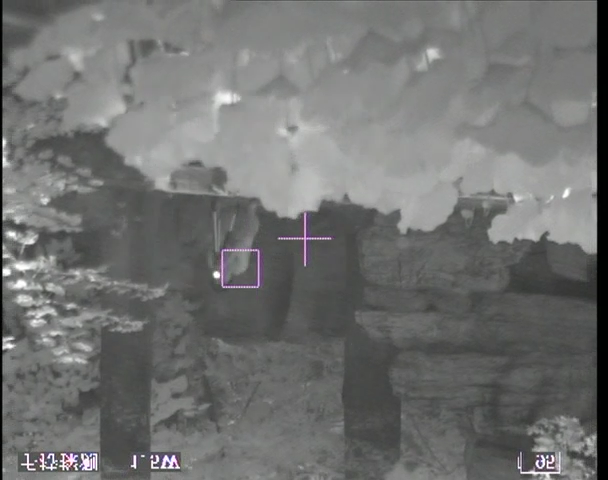my: (212, 268, 223, 282)
